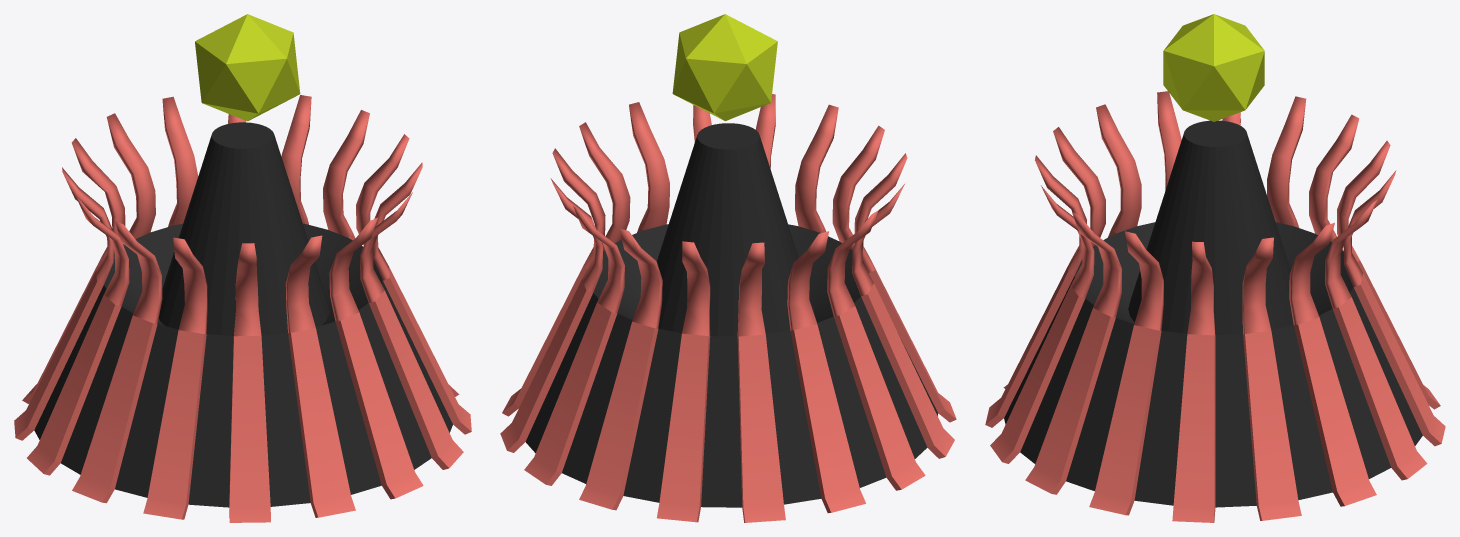
File: turret_fire.fbx
The picture shows the model from 3 angles, left to right: view 1: azimuth 30°, elevation 25°; view 2: azimuth 150°, elevation 25°; view 3: azimuth 270°, elevation 25°; orthographic projection.
Visible parts, largest first — view 1: turret_bottem, FireBall; view 2: turret_bottem, FireBall; view 3: turret_bottem, FireBall.
Part boxes in pixels (x1,y1,x2,y2): turret_bottem: (14,95,471,522); FireBall: (195,14,300,121); turret_bottem: (500,94,956,522); FireBall: (672,14,777,121); turret_bottem: (985,91,1445,522); FireBall: (1163,14,1264,121).
Bounding box in the file's own units: 414 × 413 × 414.
